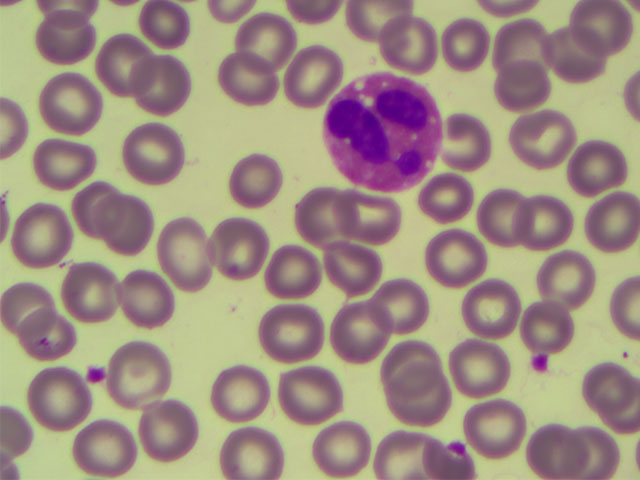Platelets: (81, 365, 106, 386), (532, 352, 550, 372), (445, 440, 465, 454)
RBC: (320, 416, 380, 480), (537, 416, 597, 480), (216, 416, 276, 480), (95, 192, 155, 255), (68, 173, 128, 236), (121, 124, 181, 187), (128, 52, 188, 115), (96, 27, 156, 90), (214, 48, 274, 111), (234, 13, 294, 76), (277, 33, 337, 96), (231, 163, 291, 226), (211, 216, 271, 279), (253, 241, 313, 304), (299, 197, 359, 260), (334, 187, 394, 250), (330, 240, 390, 303), (377, 262, 437, 325), (331, 299, 391, 362), (282, 365, 342, 428), (392, 372, 452, 435), (464, 342, 524, 405), (464, 284, 524, 347), (426, 225, 486, 288), (413, 177, 473, 240), (437, 117, 497, 180), (514, 106, 574, 169), (558, 130, 618, 193), (580, 187, 640, 250), (516, 191, 576, 254), (472, 184, 532, 247), (527, 248, 587, 311), (516, 294, 576, 357), (580, 359, 640, 422), (145, 411, 205, 474), (114, 333, 174, 396), (78, 411, 138, 474), (27, 368, 87, 431), (490, 11, 550, 74), (549, 31, 609, 94), (576, 13, 636, 76), (427, 13, 487, 76), (379, 14, 439, 77), (262, 302, 327, 360), (203, 365, 268, 423), (31, 12, 97, 63), (34, 76, 100, 127), (36, 137, 102, 188), (51, 180, 117, 231), (22, 208, 88, 259), (60, 268, 126, 319), (17, 314, 83, 365), (115, 277, 181, 328), (153, 235, 219, 286), (379, 425, 436, 479)
WBC: (331, 73, 447, 191)
